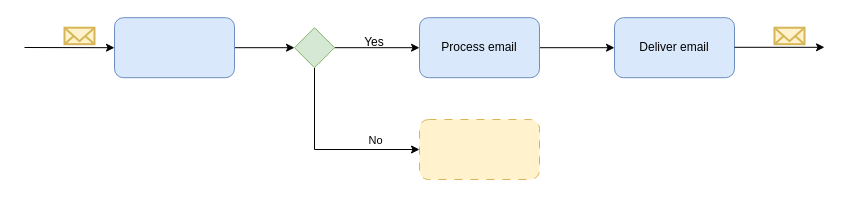
This 850x197 diagram has some shape labels left out. The box of each missing label's shape, as (x1, y1, x2, y2) in pixels:
Is a contact email: (114, 17, 234, 78)
Regular Permission Check: (418, 118, 540, 180)
